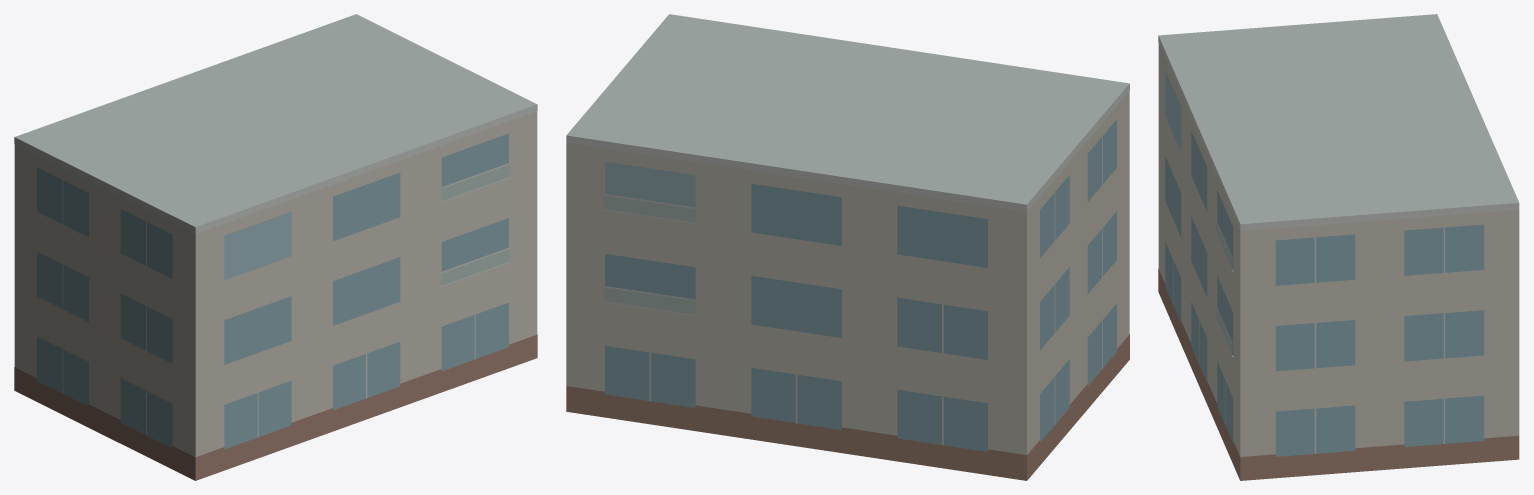
Rendered from survey-upis-32707334.glb.
3 views of the same model, side by side, from view 1: azimuth 30°, elevation 25°; view 2: azimuth 150°, elevation 25°; view 3: azimuth 270°, elevation 25° (orthographic). The views are drawn at different scales.
Parts seen in each view (by area): view 1: survey-upis-32707334.tmp; view 2: survey-upis-32707334.tmp; view 3: survey-upis-32707334.tmp.
Boxes of the visible parts, x1,y1,x2,y2 form: survey-upis-32707334.tmp: [14, 14, 537, 480]; survey-upis-32707334.tmp: [566, 14, 1129, 480]; survey-upis-32707334.tmp: [1158, 14, 1519, 480].
Size of the model in its own units: 16.08 by 9.15 by 11.67.
